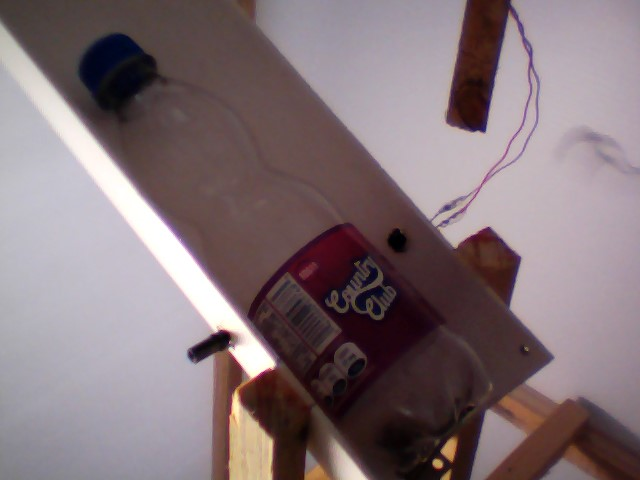plastico: (67, 28, 489, 472)
